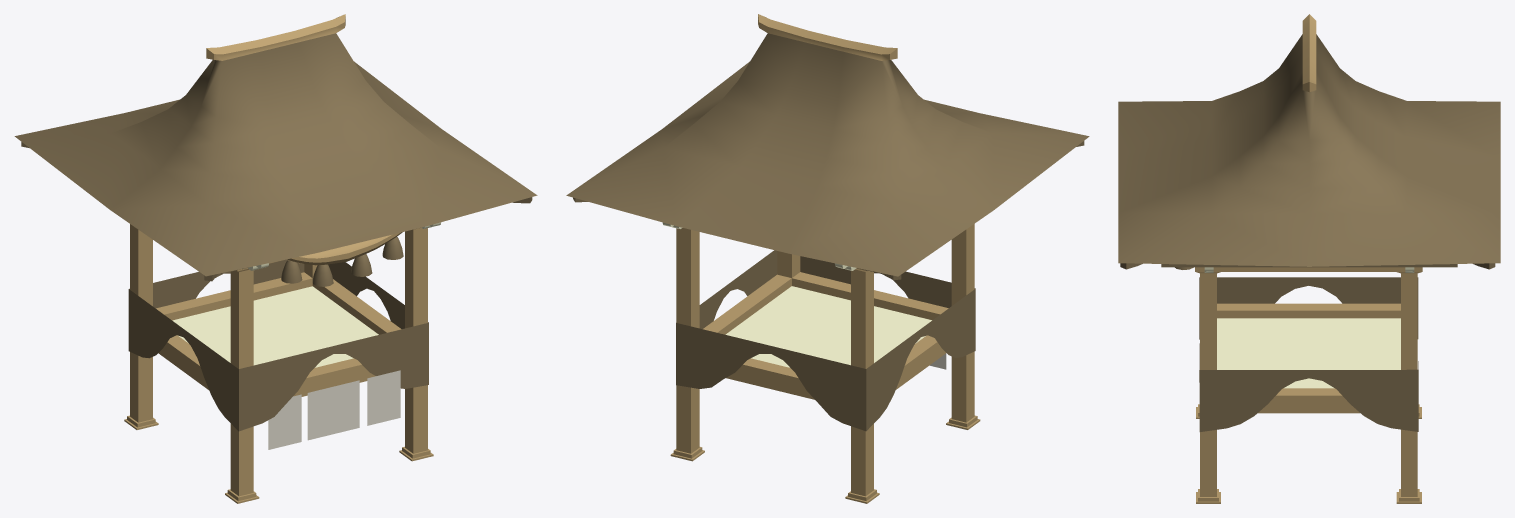
File: Watchtower.fbx
The picture shows the model from 3 angles, left to right: view 1: azimuth 30°, elevation 25°; view 2: azimuth 150°, elevation 25°; view 3: azimuth 270°, elevation 25°; orthographic projection.
Parts seen in each view (by area): view 1: Watchtower; view 2: Watchtower; view 3: Watchtower.
Part boxes in pixels (bbox=[...]): Watchtower: bbox=[14, 14, 537, 503]; Watchtower: bbox=[566, 14, 1089, 503]; Watchtower: bbox=[1118, 14, 1500, 503].
Bounding box in the file's own units: 476 × 559 × 476.
